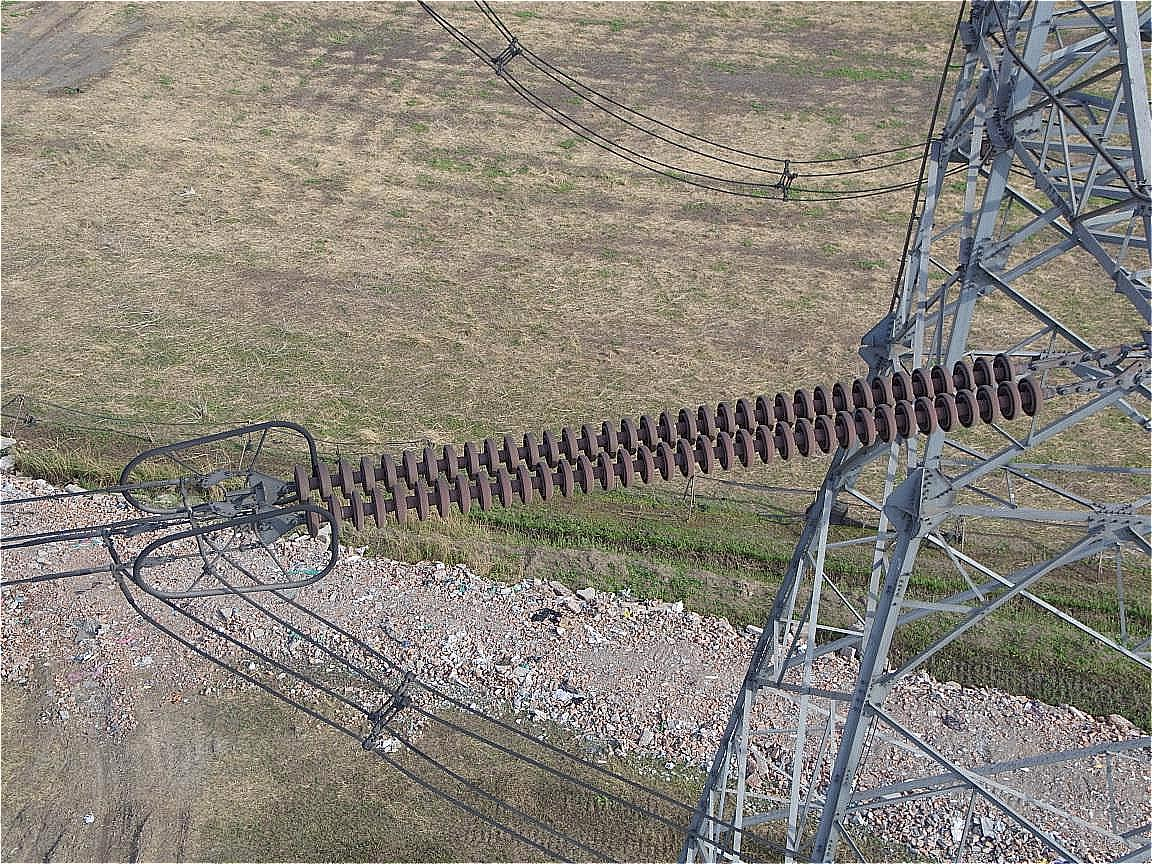insultor1: (278, 336, 1067, 542)
